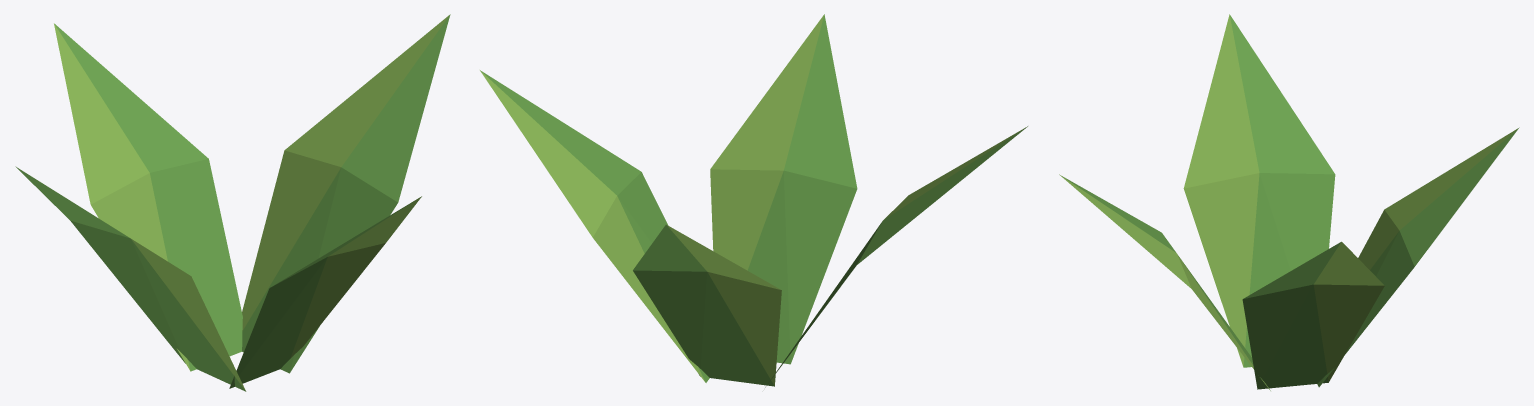
Rendered from small_plant_01.glb.
3 renders of one model, left to right at view 1: azimuth 30°, elevation 25°; view 2: azimuth 150°, elevation 25°; view 3: azimuth 270°, elevation 25°, orthographic. The views are drawn at different scales.
Parts seen in each view (by area): view 1: small_plant_01; view 2: small_plant_01; view 3: small_plant_01.
Boxes of the visible parts, x1,y1,x2,y2 form: small_plant_01: (15, 14, 450, 391); small_plant_01: (480, 14, 1027, 387); small_plant_01: (1059, 14, 1519, 390).
Bounding box in the file's own units: 0.1834 × 0.1017 × 0.1686.
